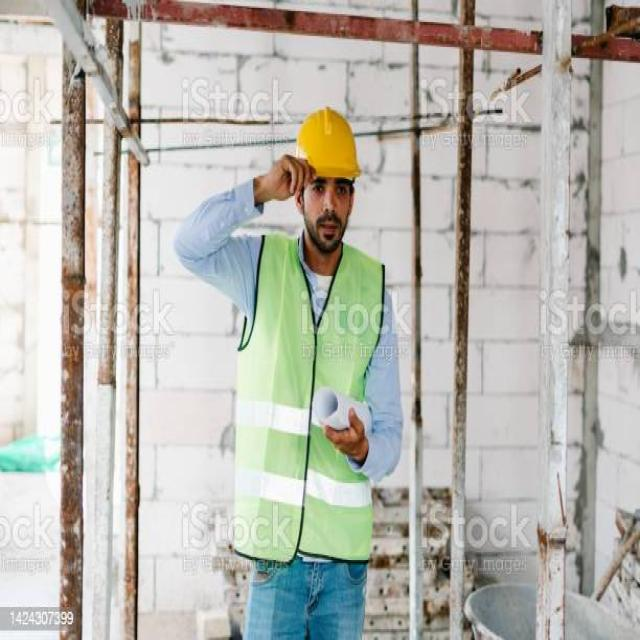helmet: (286, 94, 368, 200)
no-goggles: (300, 173, 357, 200)
vest: (231, 212, 404, 560)
